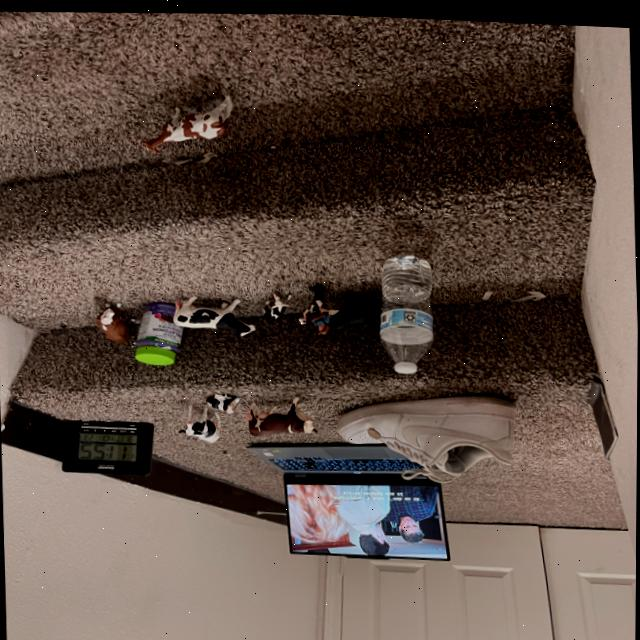cow: (135, 91, 240, 154), (244, 390, 316, 446), (172, 290, 258, 335), (328, 286, 383, 331), (180, 397, 228, 443), (93, 300, 136, 349), (259, 283, 294, 323), (291, 294, 331, 328), (204, 387, 240, 412)
person: (311, 311, 332, 333)
